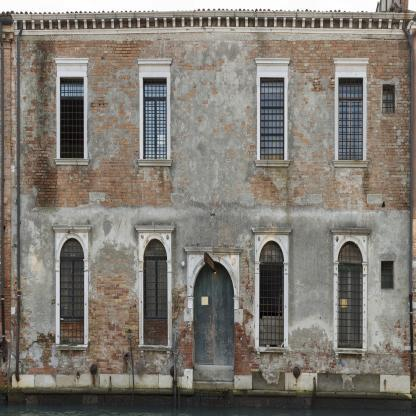Building Outline: (8, 0, 416, 407)
Cornice: (184, 246, 244, 256), (133, 225, 177, 234), (330, 227, 373, 236), (51, 224, 93, 233), (251, 227, 293, 236), (254, 57, 291, 65), (137, 58, 173, 66), (333, 58, 370, 65), (54, 58, 90, 65)
Door: (192, 261, 234, 382)
Facade: (10, 28, 412, 407)
Floor Slab: (10, 192, 412, 204)
Ground Floor: (10, 203, 412, 407)
Molding: (14, 17, 414, 30)
Sill: (333, 347, 369, 362), (138, 344, 173, 359), (254, 346, 290, 360), (55, 344, 89, 358), (254, 159, 292, 168), (53, 158, 91, 166), (332, 160, 370, 168), (136, 159, 174, 167)
Top Floor: (10, 29, 412, 204)
Window: (338, 241, 363, 349), (259, 240, 284, 347), (143, 239, 168, 345), (60, 238, 84, 344), (260, 77, 284, 160), (339, 77, 363, 160), (143, 78, 167, 160), (60, 77, 84, 158), (383, 84, 395, 113)
